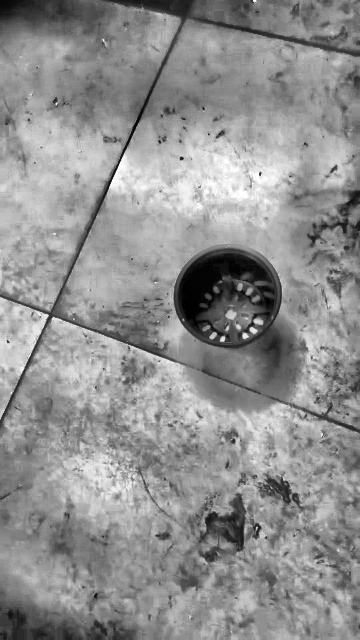pot: (174, 247, 281, 350)
